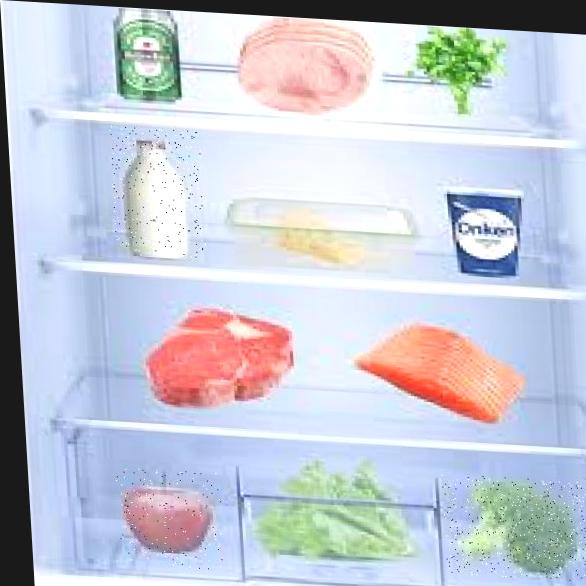apples: (115, 467, 225, 570)
broccoli: (441, 474, 586, 583)
milk: (109, 126, 208, 259)
